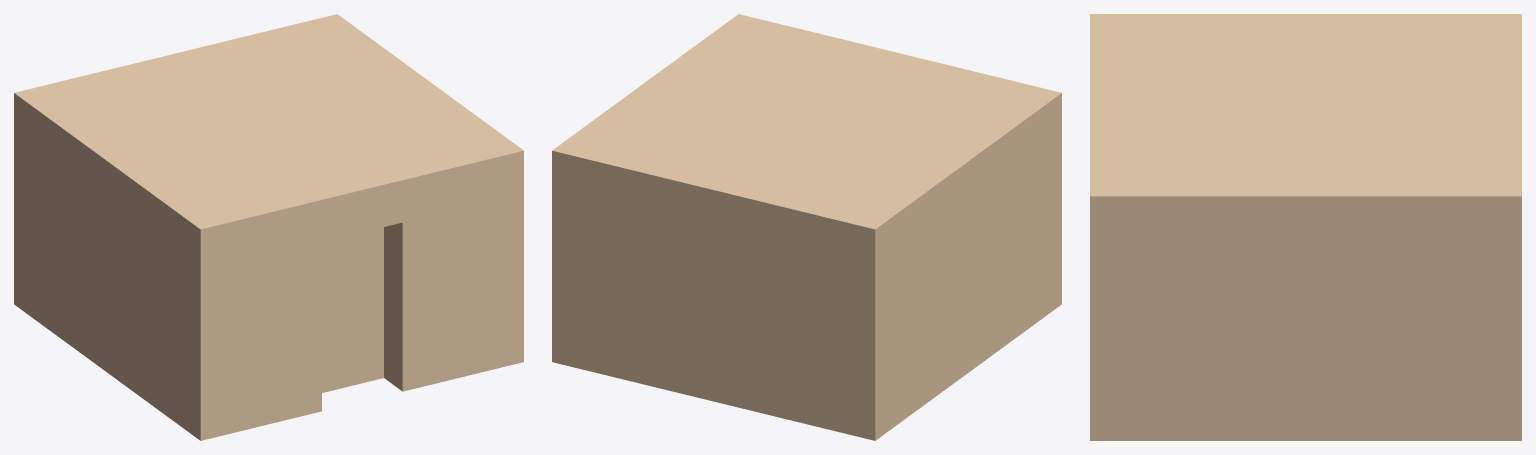
Rendered from building-door.obj.
3 renders of one model, left to right at view 1: azimuth 30°, elevation 25°; view 2: azimuth 150°, elevation 25°; view 3: azimuth 270°, elevation 25°, orthographic. The views are drawn at different scales.
Bounding box in the file's own units: 1 × 0.625 × 1.
